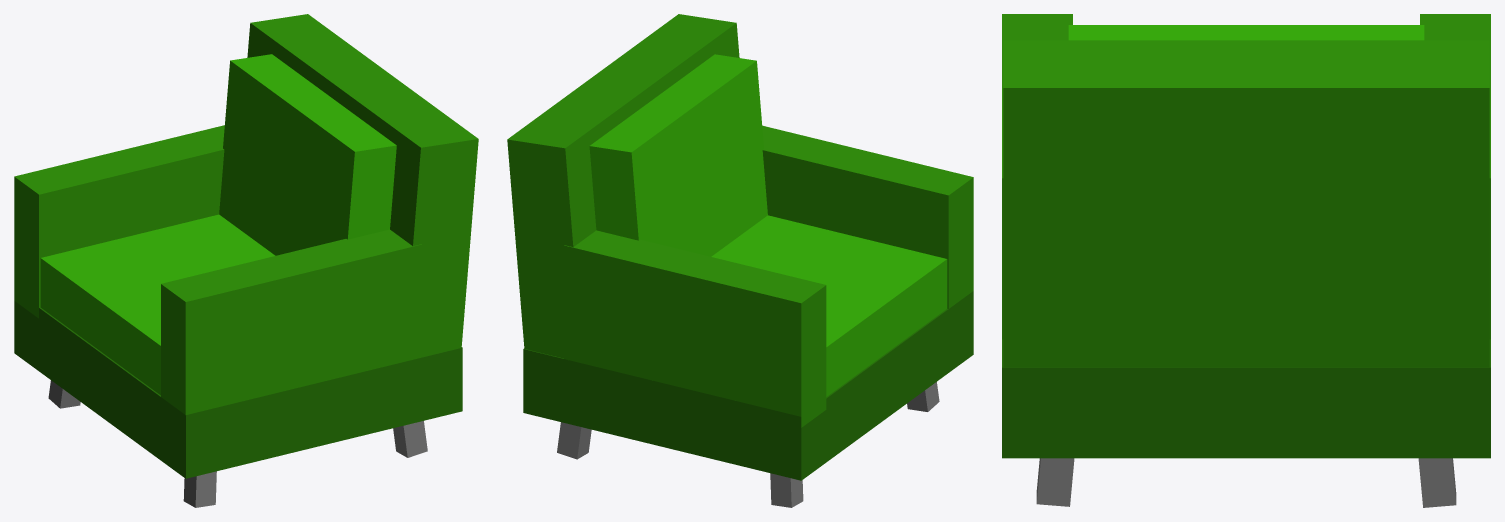
The model's file is vegas-chair-3.glb.
3 views of the same model, side by side, from view 1: azimuth 30°, elevation 25°; view 2: azimuth 150°, elevation 25°; view 3: azimuth 270°, elevation 25° (orthographic). The views are drawn at different scales.
Visible parts, largest first — view 1: Roblox reference geometry; view 2: Roblox reference geometry; view 3: Roblox reference geometry.
Boxes of the visible parts, bbox=[...] form: Roblox reference geometry: bbox=[14, 14, 478, 507]; Roblox reference geometry: bbox=[507, 14, 973, 507]; Roblox reference geometry: bbox=[1002, 14, 1490, 507].
Size of the model in its own units: 4.13 by 4.31 by 4.18.
